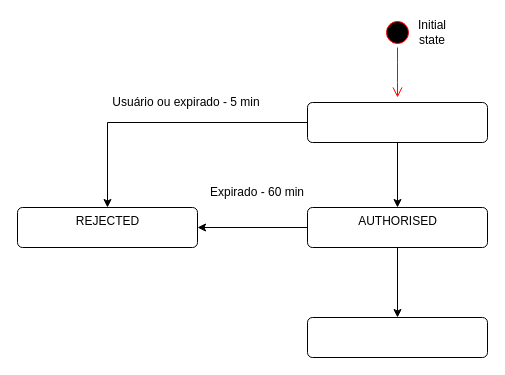
The diagram is 505 pixels wide and 375 high, and some of its shapes have lost their labels. Each missing label, with the centre of its shape:
AWAITING_AUTHORISATION: [397,122]
CONSUMED: [397,337]
